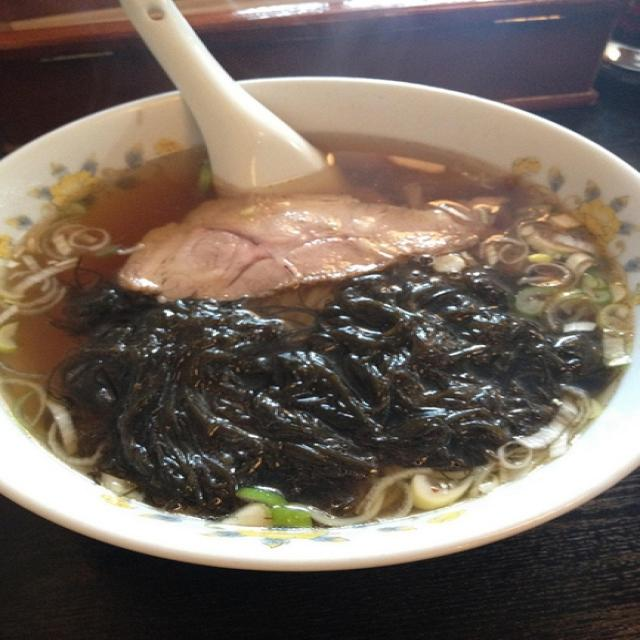蔬菜料理: (13, 42, 626, 572)
